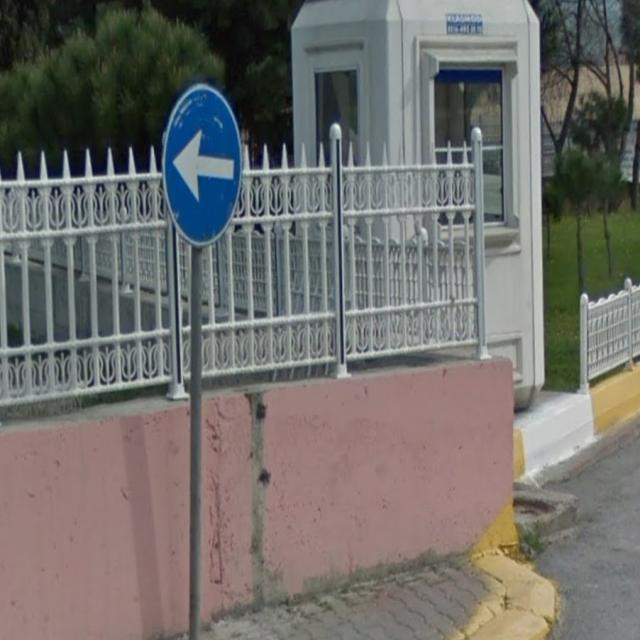Turn Left: (160, 88, 243, 248)
